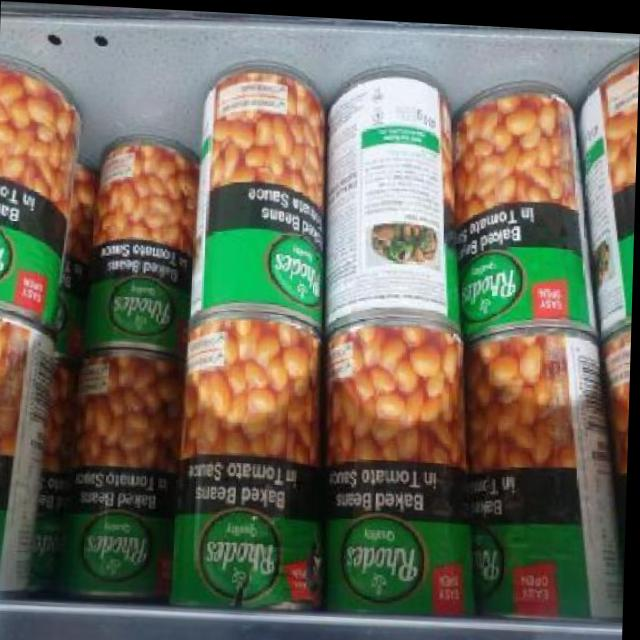Beans: (468, 319, 629, 614), (326, 320, 481, 594), (175, 304, 319, 596), (443, 72, 595, 323), (308, 71, 461, 318), (201, 49, 328, 320), (54, 334, 168, 589), (83, 107, 178, 340), (0, 51, 63, 324), (0, 298, 31, 592)
